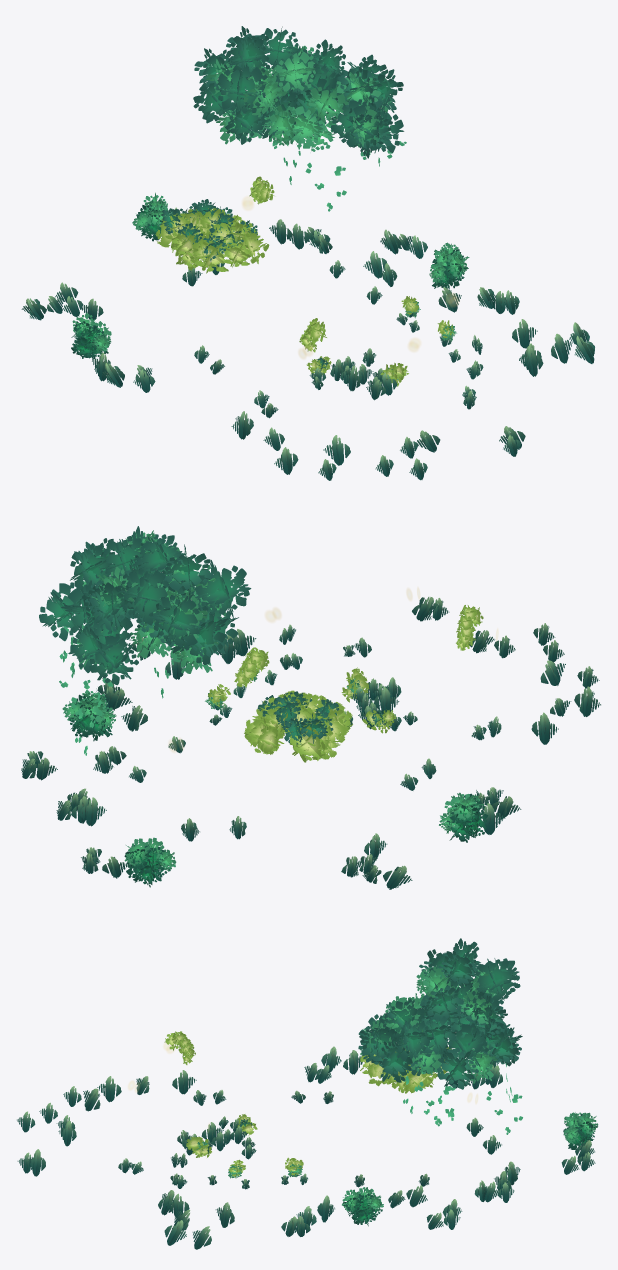
The model's file is CLeaves.gltf.
The picture shows the model from 3 angles, top to bottom: view 1: azimuth 30°, elevation 25°; view 2: azimuth 150°, elevation 25°; view 3: azimuth 270°, elevation 25°; orthographic projection. The views are drawn at different scales.
Parts seen in each view (by area): view 1: Plane.021, Plane.018, Plane.014, Plane.013, Plane.012; view 2: Plane.021, Plane.018, Plane.012, Plane.014, Plane.013; view 3: Plane.021, Plane.018, Plane.013, Plane.012.
Part boxes in pixels (box(x1,y1,x2,y2)): Plane.021: box(193, 26, 404, 158); Plane.018: box(155, 199, 269, 273); Plane.014: box(71, 312, 111, 360); Plane.013: box(429, 242, 469, 288); Plane.012: box(132, 192, 173, 241); Plane.021: box(39, 526, 251, 685); Plane.018: box(244, 690, 352, 762); Plane.012: box(124, 837, 176, 887); Plane.014: box(439, 792, 488, 842); Plane.013: box(62, 688, 116, 741); Plane.021: box(358, 938, 522, 1089); Plane.018: box(360, 1038, 451, 1093); Plane.013: box(342, 1187, 383, 1226); Plane.012: box(563, 1112, 598, 1149).
Size of the model in its own units: 17.14 by 10.31 by 22.83.
7 materials, 7 textured.
